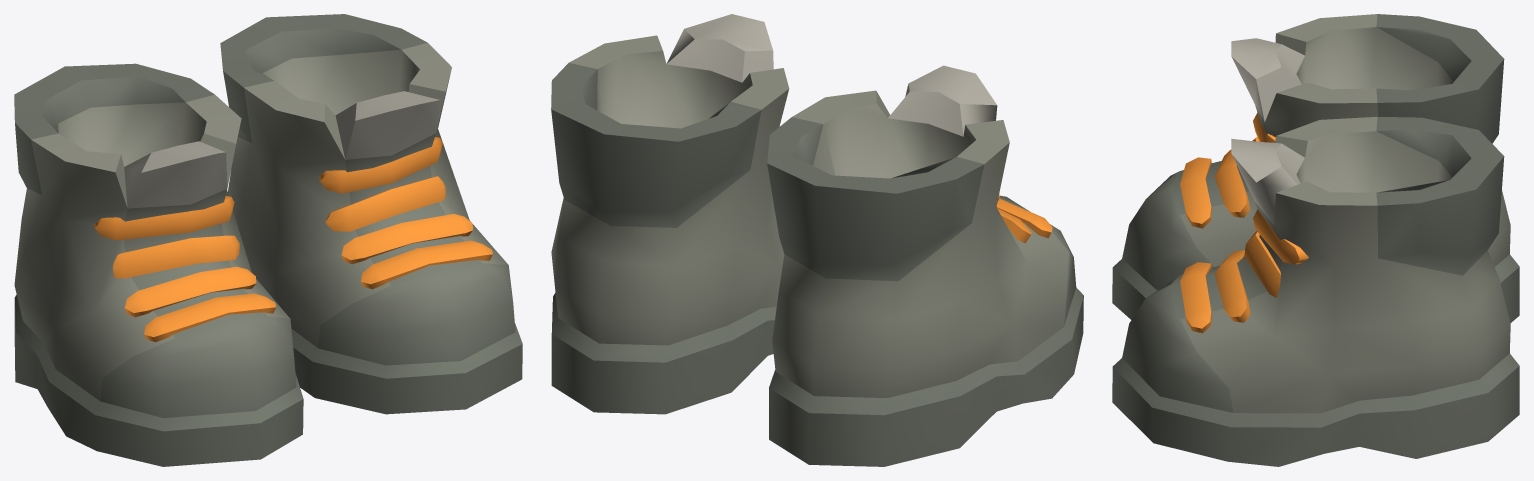
Rendered from Shoes_20.fbx.
3 renders of one model, left to right at view 1: azimuth 30°, elevation 25°; view 2: azimuth 150°, elevation 25°; view 3: azimuth 270°, elevation 25°, orthographic. The views are drawn at different scales.
Visible parts, largest first — view 1: Shoes_20; view 2: Shoes_20; view 3: Shoes_20.
Boxes of the visible parts, x1,y1,x2,y2 form: Shoes_20: (14,14,522,466); Shoes_20: (551,14,1083,466); Shoes_20: (1112,14,1519,466).
Bounding box in the file's own units: 43.1 × 26.12 × 36.04.
